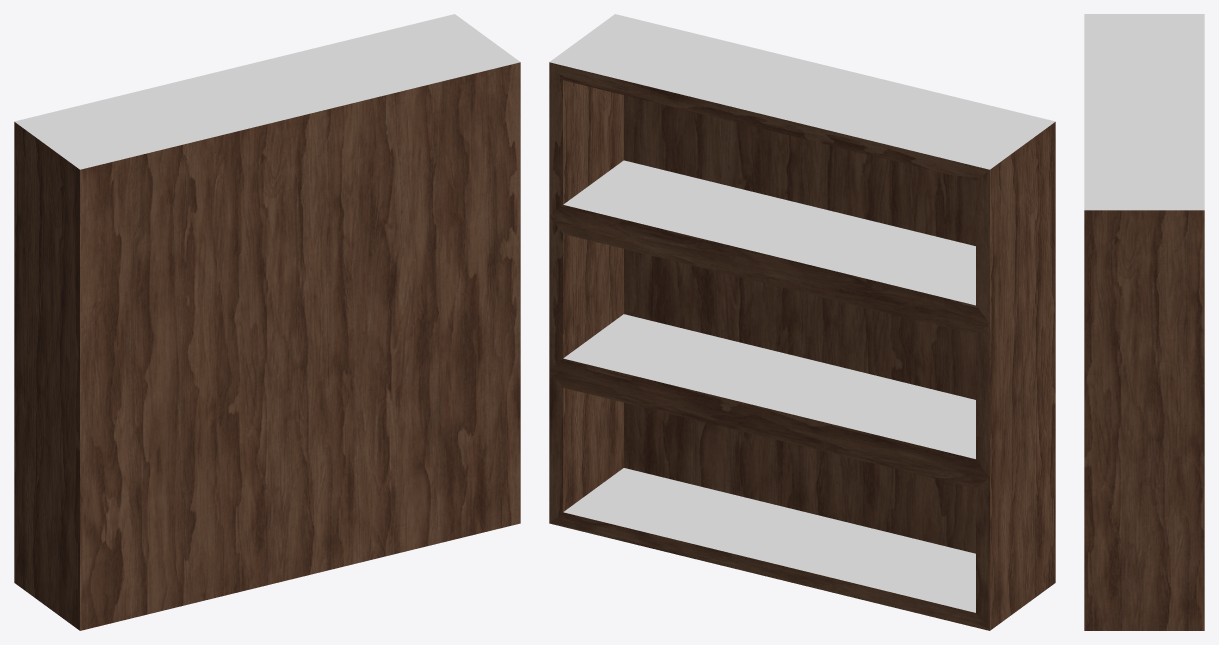
File: shelf_3.fbx
3 views of the same model, side by side, from view 1: azimuth 30°, elevation 25°; view 2: azimuth 150°, elevation 25°; view 3: azimuth 270°, elevation 25° (orthographic). The views are drawn at different scales.
Visible parts, largest first — view 1: Shelf_1; view 2: Shelf_1; view 3: Shelf_1.
Boxes of the visible parts, left/top/right/bottom form: Shelf_1: left=14, top=14, right=520, bottom=630; Shelf_1: left=549, top=14, right=1055, bottom=630; Shelf_1: left=1084, top=14, right=1204, bottom=630.
Bounding box in the file's own units: 200 × 200 × 51.82.
